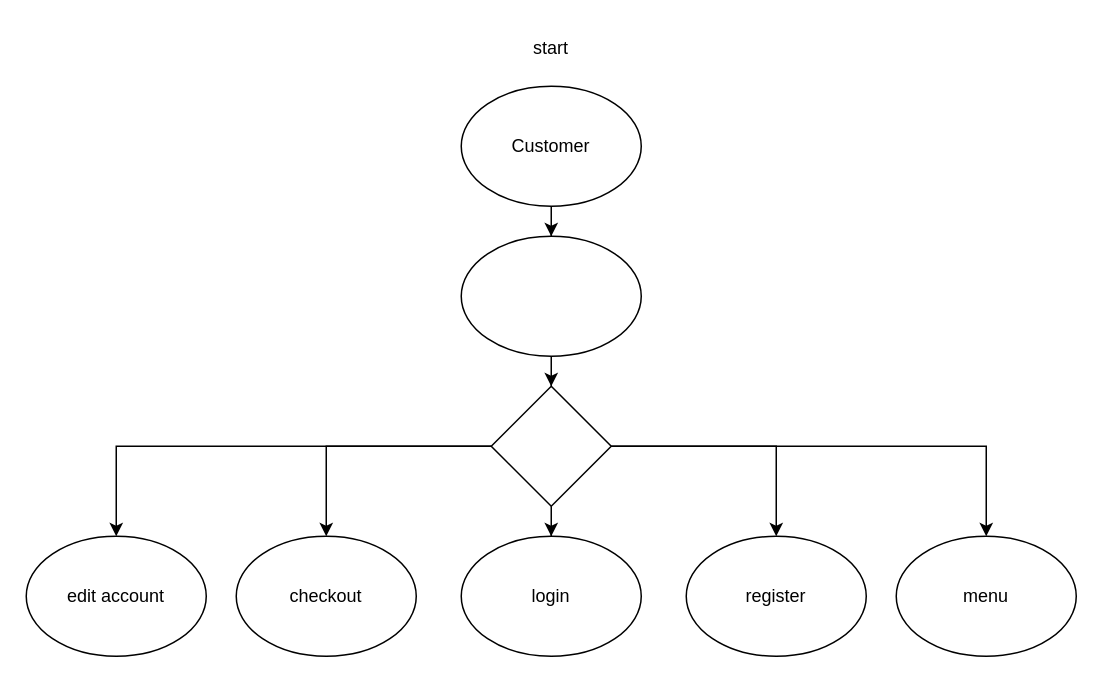
This 1103x683 diagram has some shape labels left out. The centre of each missing label's shape, as x and y in pixels:
"Homepage" goes at pixel 550 295.
"option" goes at pixel 550 445.
